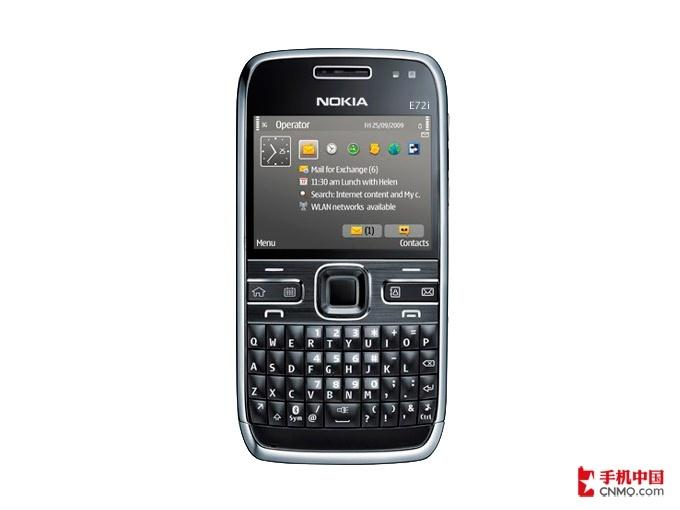phone: (227, 42, 453, 471)
